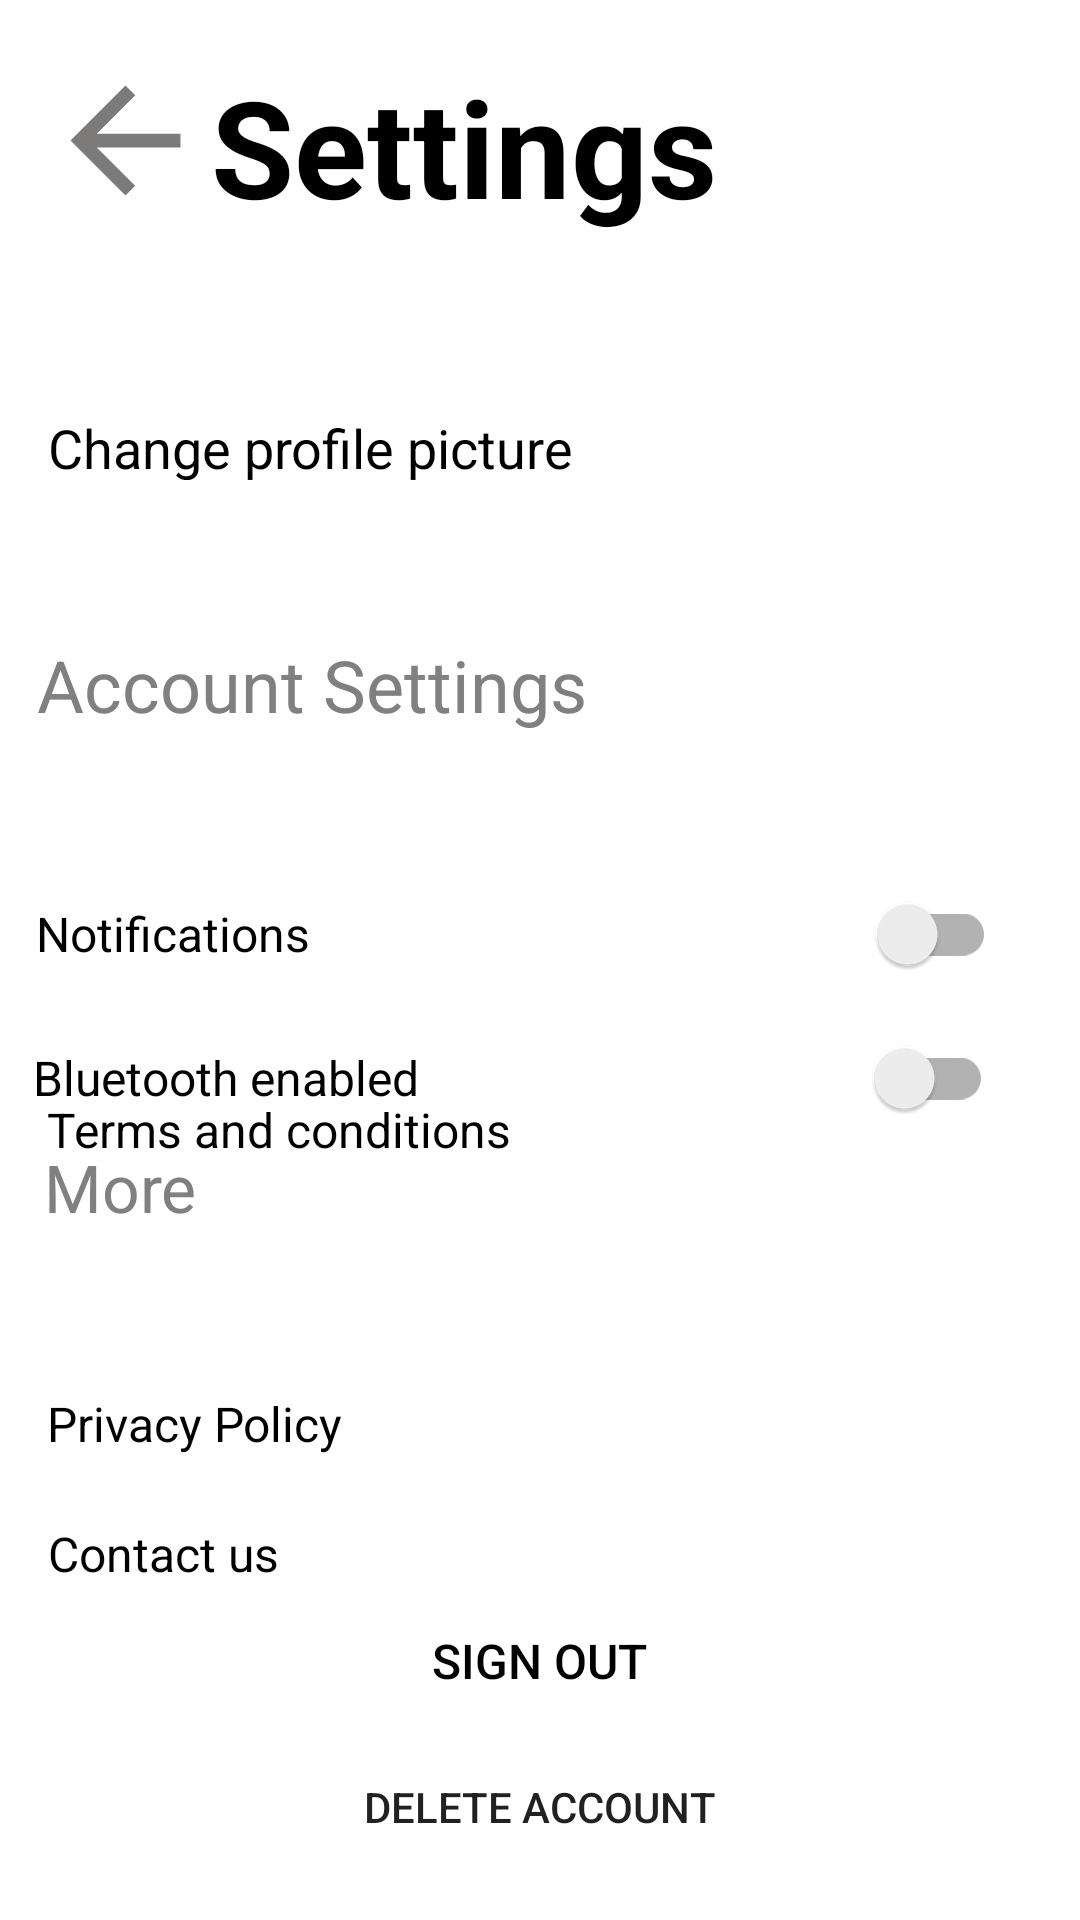

Screen size 1080×1920. Icon name, then its box in pixels as [x1, y1, x2, y2]:
backarrow: [70, 85, 181, 196]
